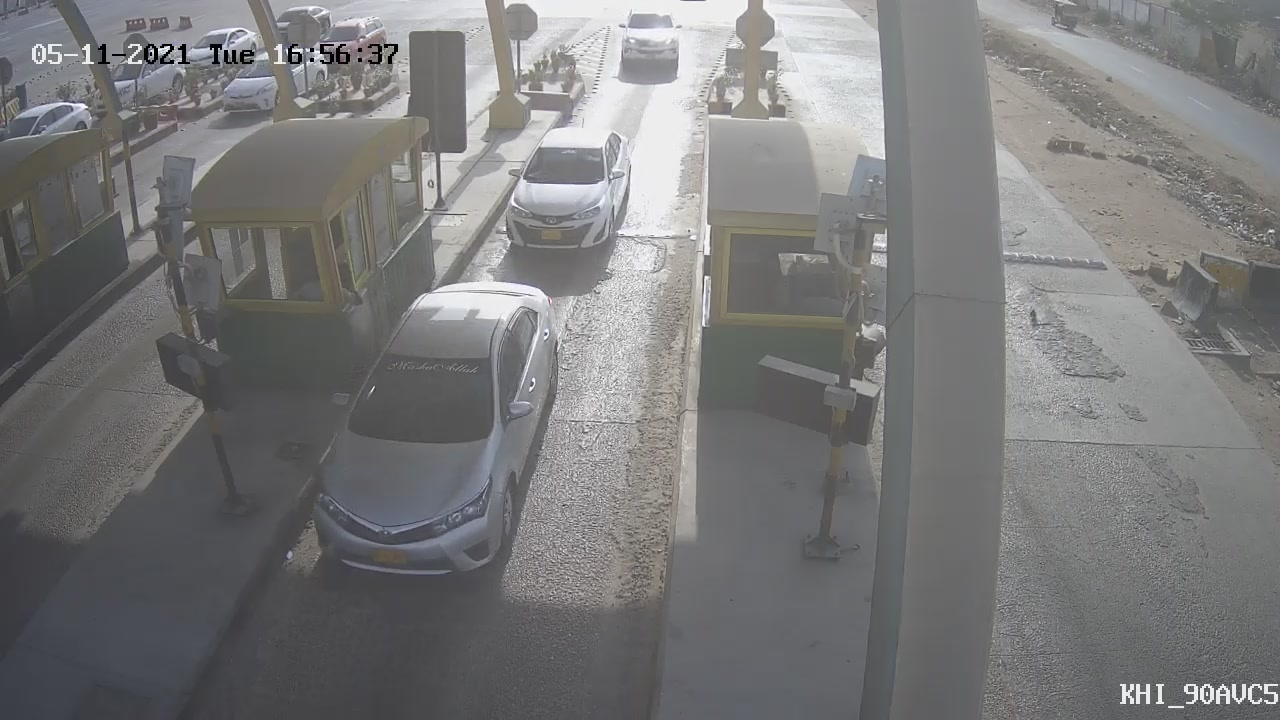F1: (263, 256, 594, 617), (483, 113, 651, 268)
